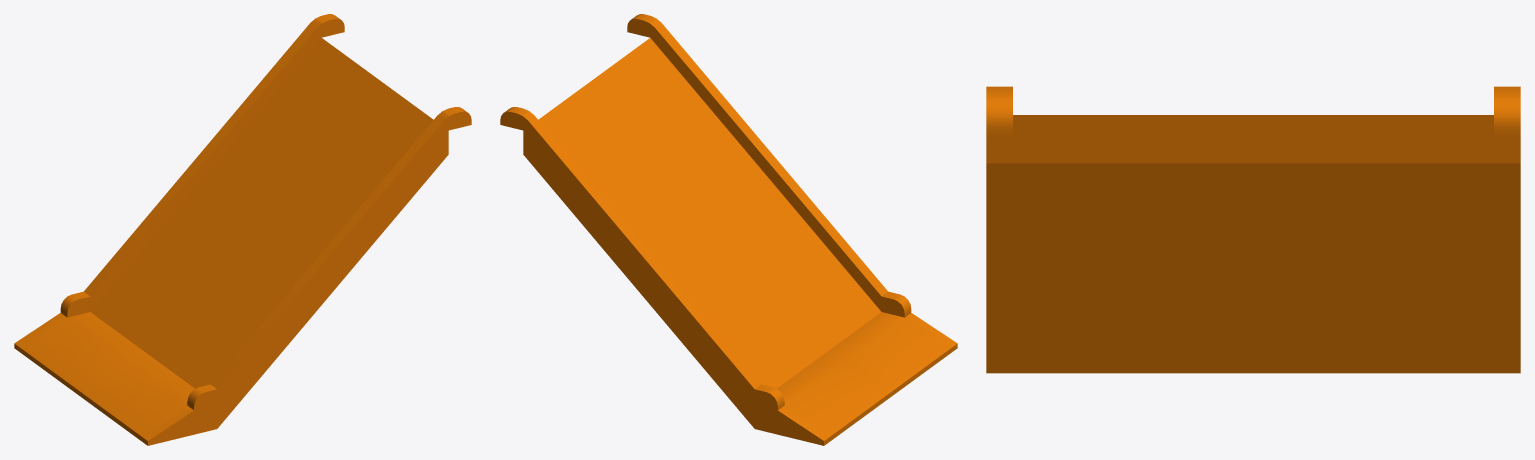
File: Slide.fbx
The picture shows the model from 3 angles, left to right: view 1: azimuth 30°, elevation 25°; view 2: azimuth 150°, elevation 25°; view 3: azimuth 270°, elevation 25°; orthographic projection. The views are drawn at different scales.
Parts seen in each view (by area): view 1: Slide, SlideBottom, SlideTop; view 2: Slide, SlideBottom, SlideTop; view 3: Slide, SlideTop.
Part boxes in pixels (x1,y1,x2,y2): Slide: (84, 18, 448, 428); SlideBottom: (14, 291, 217, 445); SlideTop: (315, 14, 471, 130); Slide: (523, 18, 887, 428); SlideBottom: (754, 291, 957, 445); SlideTop: (500, 14, 656, 130); Slide: (986, 115, 1520, 373); SlideTop: (986, 86, 1520, 137).
Size of the model in its own units: 7 by 5.32 by 5.
